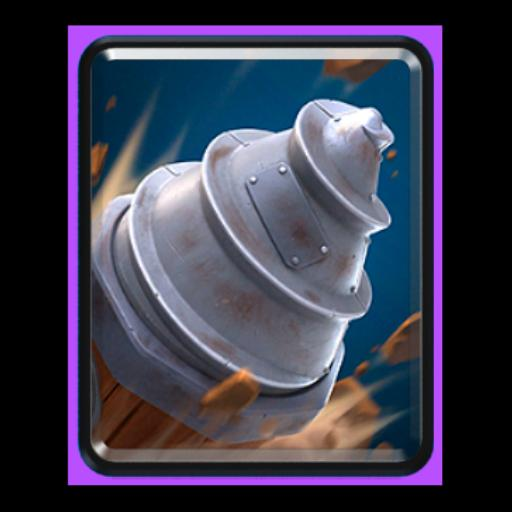goblin-drill: (85, 54, 419, 466)
